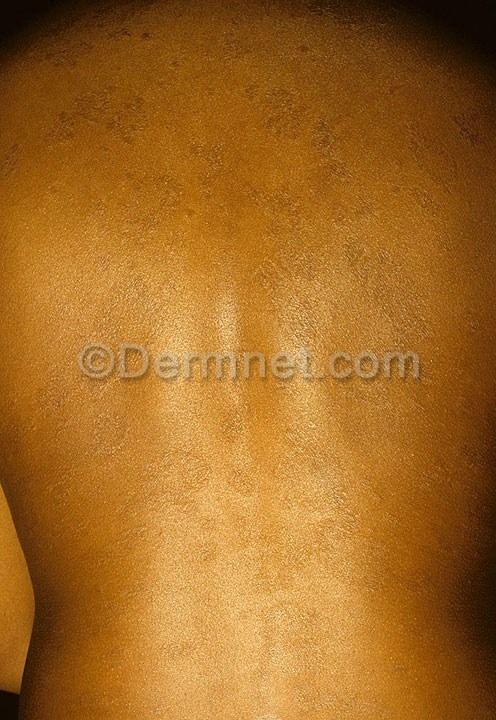Psoriasis: (264, 406, 391, 612), (265, 219, 442, 347), (59, 267, 154, 444), (244, 75, 366, 206), (269, 619, 387, 710), (12, 6, 143, 80), (136, 438, 241, 520), (50, 86, 163, 160), (405, 338, 496, 427), (174, 135, 248, 241), (398, 113, 486, 202), (146, 622, 212, 685)
